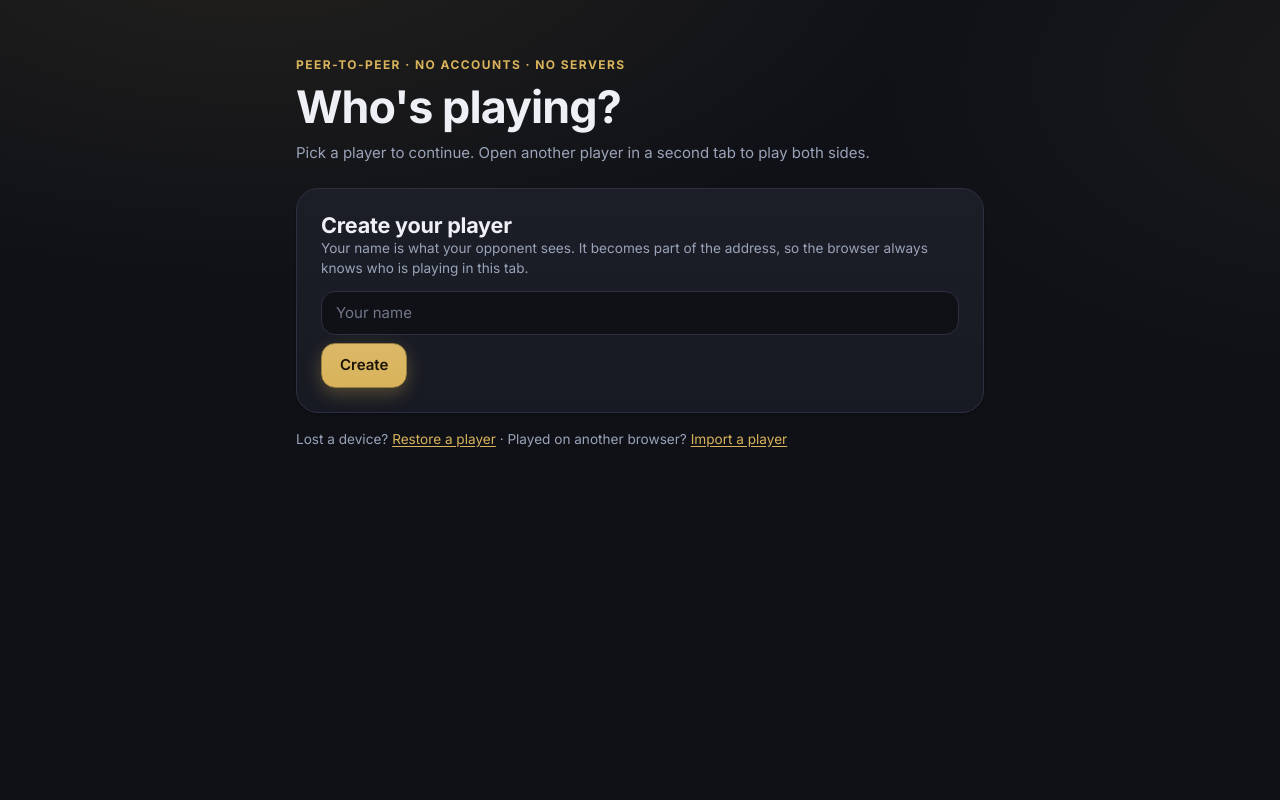
Test case: PickerScreen import › shows an error for a bad code and stays on the picker
Click the button with test id "import-profile-toggle" at (739, 439), box [691,429,787,449]
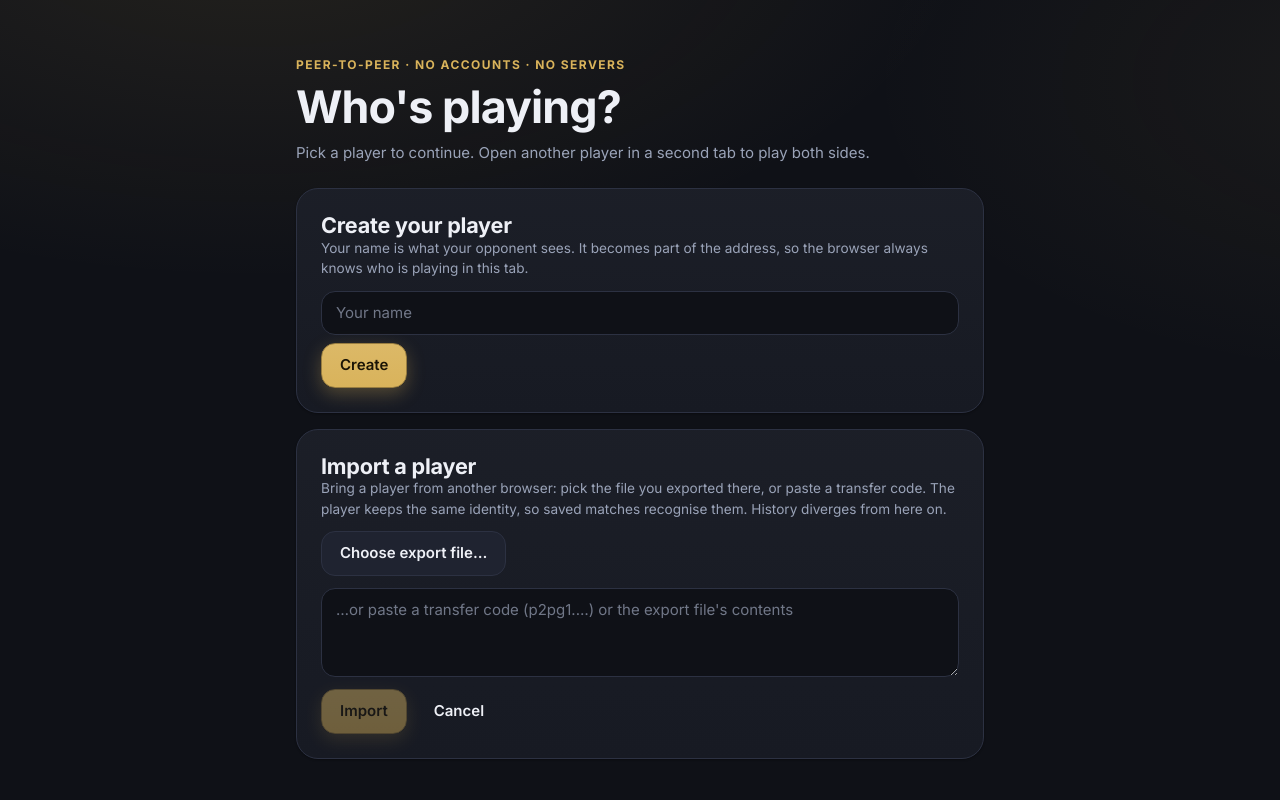
Type "p2pg1.nope" into the text box with test id "import-profile-code" at (640, 632), box [321,588,959,677]
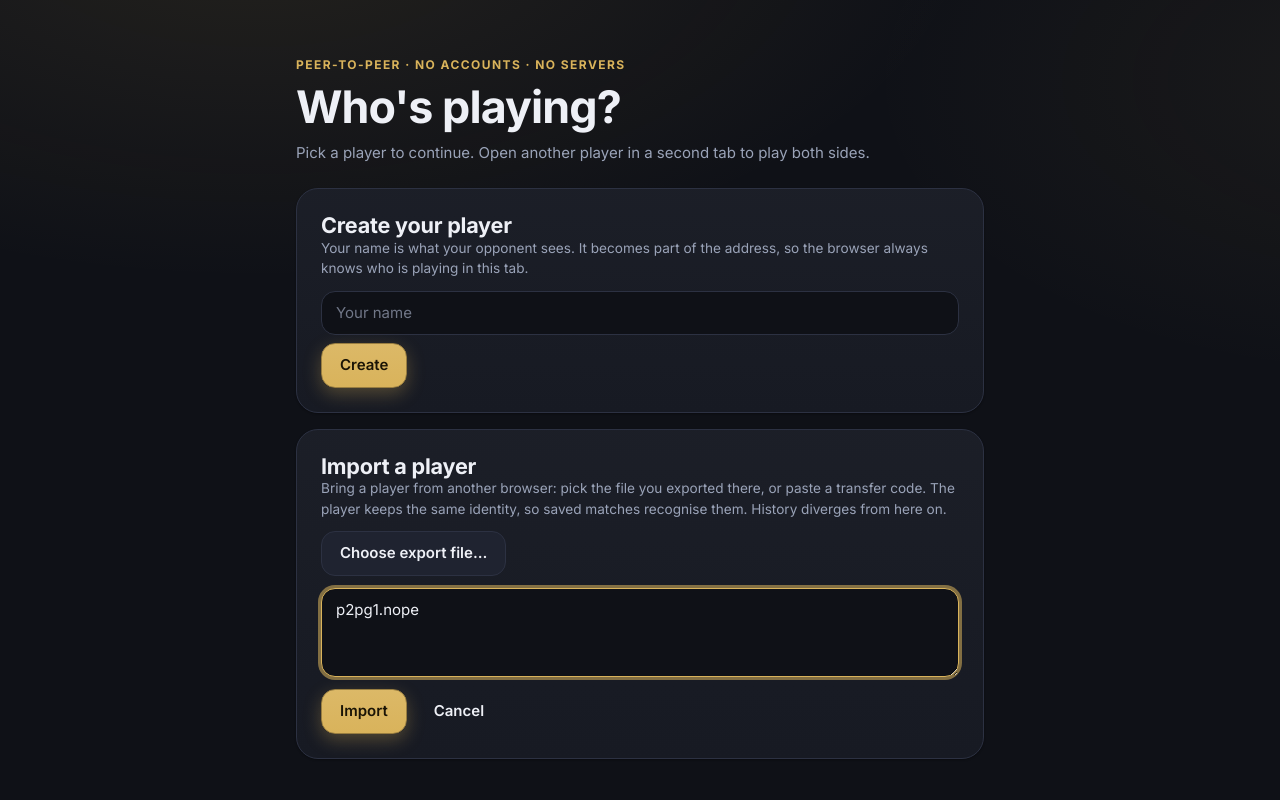
Click the button with test id "import-profile-button" at (364, 711), box [321,689,407,734]
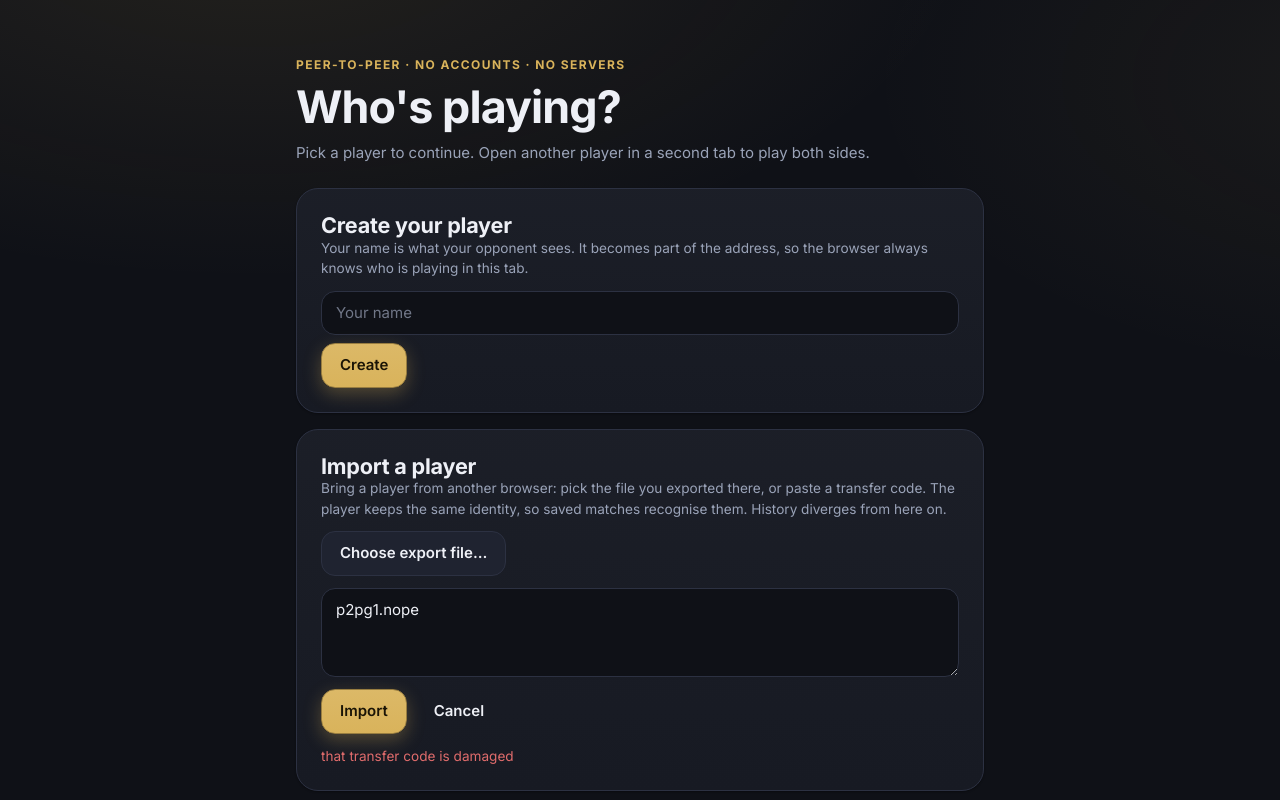
Check: the message with test id "import-error" shows "damaged", box [321,748,514,764]
